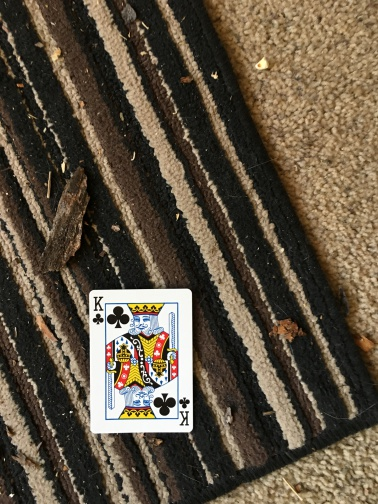king: (87, 284, 196, 433)
